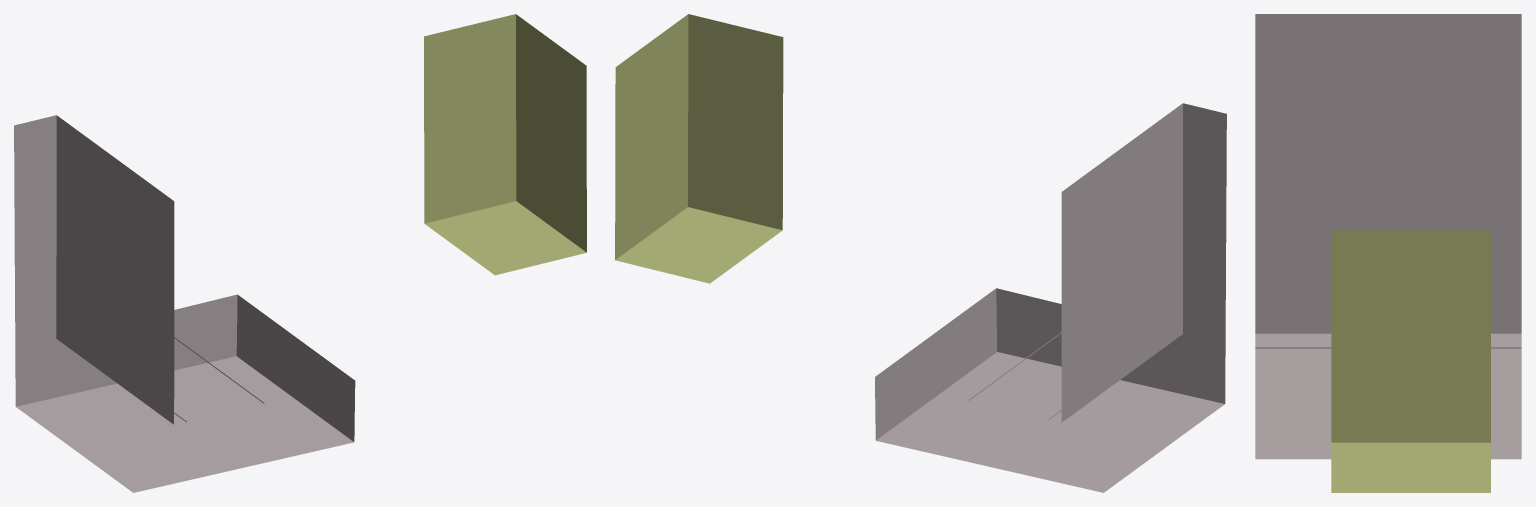
The picture shows the model from 3 angles, left to right: view 1: azimuth 30°, elevation 25°; view 2: azimuth 150°, elevation 25°; view 3: azimuth 270°, elevation 25°; orthographic projection. The views are drawn at different scales.
Visible parts, largest first — view 1: 0_2_0_1_1_2_1_0; view 2: 0_2_0_1_1_2_1_0; view 3: 0_2_0_1_1_2_1_0.
Boxes of the visible parts, bbox=[...] form: 0_2_0_1_1_2_1_0: bbox=[14, 14, 586, 492]; 0_2_0_1_1_2_1_0: bbox=[615, 14, 1226, 492]; 0_2_0_1_1_2_1_0: bbox=[1255, 14, 1521, 492].
Bounding box in the file's own units: 35.96 × 20.2 × 15.
